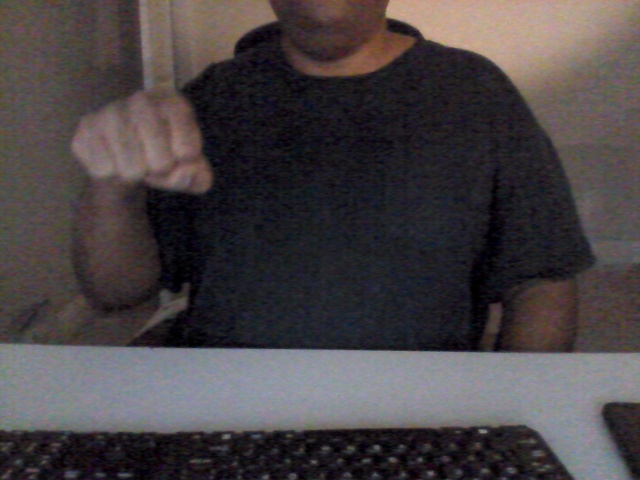yes: (65, 85, 219, 195)
